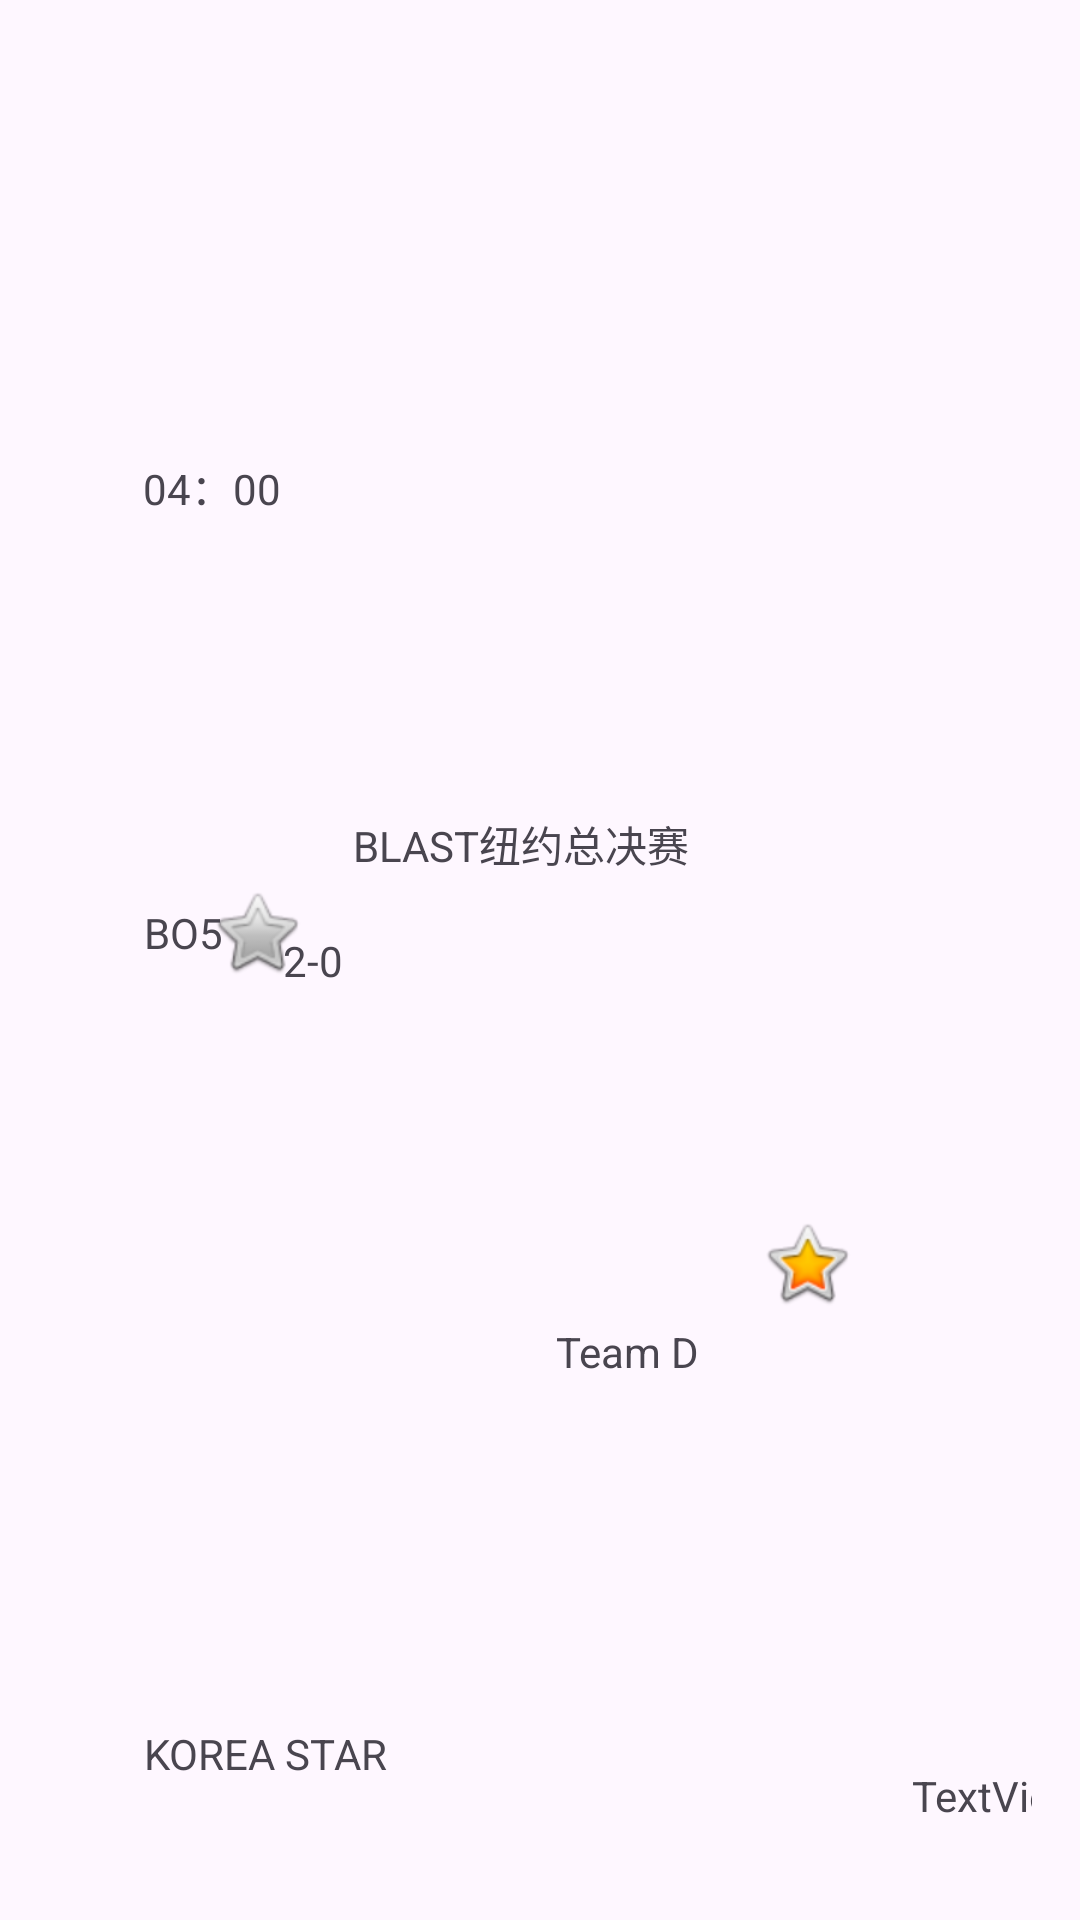

Named icons in this screenshot (1080x1920) and their centers, (x=x, y=y):
star on: (x=808, y=1264)
